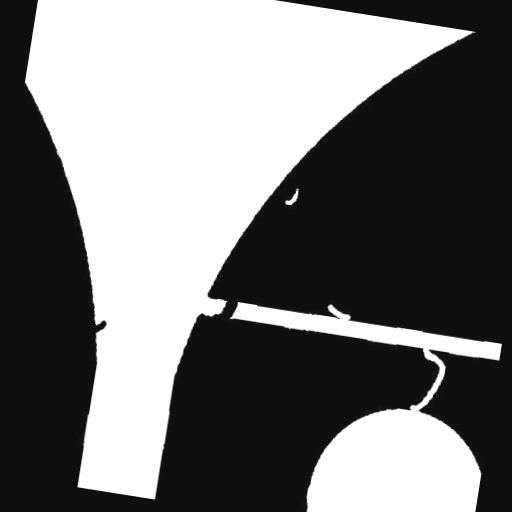mousebite: (317, 294, 360, 328)
open: (400, 336, 456, 422)
pin-hole: (276, 177, 306, 214)
short: (202, 286, 246, 332)
spur: (80, 309, 115, 342)
